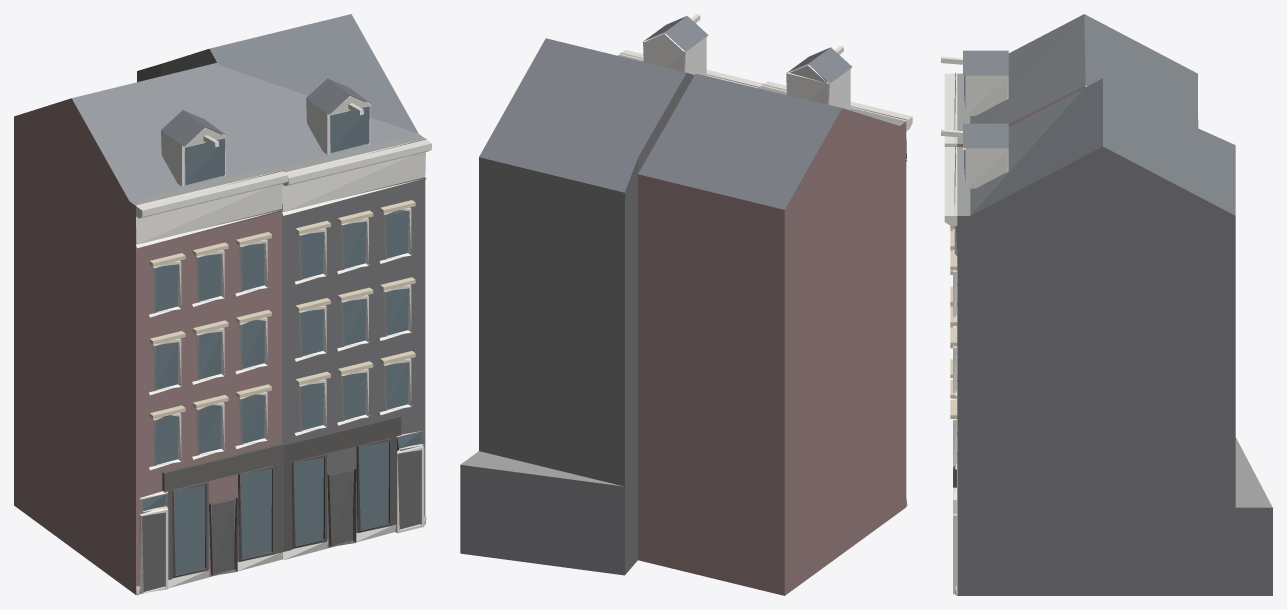
File: chunk-face-saenredam-62-66-r1.lod2.glb
The picture shows the model from 3 angles, left to right: view 1: azimuth 30°, elevation 25°; view 2: azimuth 150°, elevation 25°; view 3: azimuth 270°, elevation 25°; orthographic projection.
Parts seen in each view (by area): view 1: lod2; view 2: lod2; view 3: lod2.
Boxes of the visible parts, x1,y1,x2,y2 form: lod2: (14, 14, 431, 595); lod2: (460, 14, 912, 595); lod2: (941, 14, 1272, 595).
Bounding box in the file's own units: 10.25 × 15.44 × 10.33.
